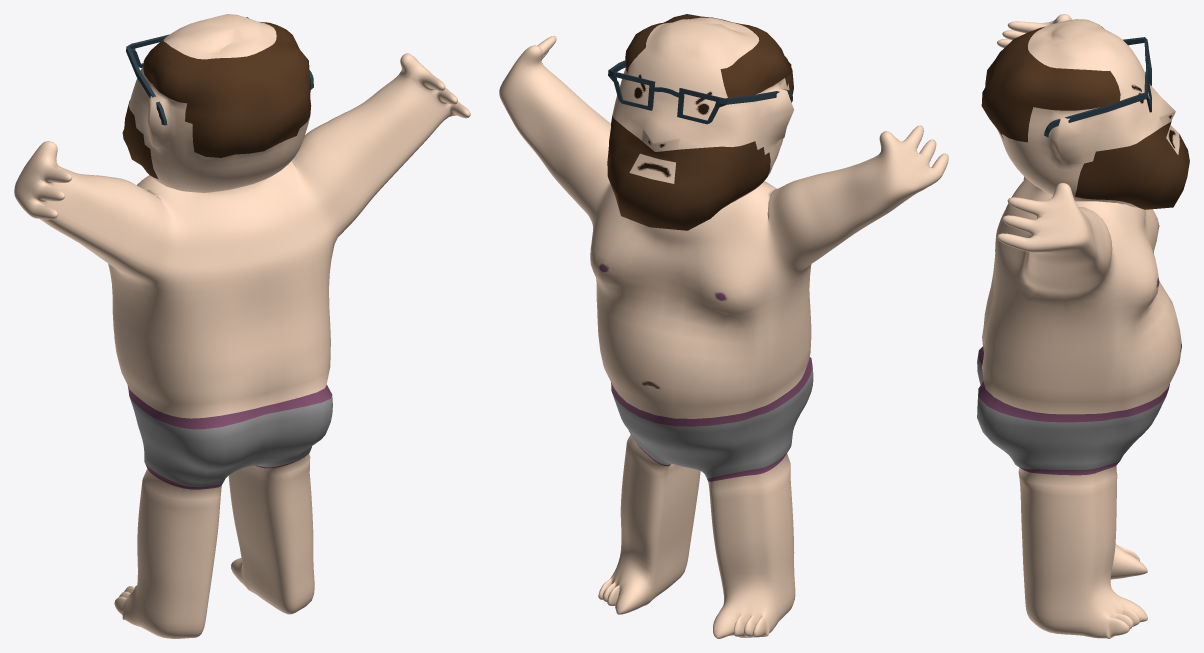
Rendered from ramoncharacter.glb.
The picture shows the model from 3 angles, left to right: view 1: azimuth 30°, elevation 25°; view 2: azimuth 150°, elevation 25°; view 3: azimuth 270°, elevation 25°; orthographic projection. The views are drawn at different scales.
Visible parts, largest first — view 1: ramon, Cube.002; view 2: ramon, Cube.002; view 3: ramon, Cube.002.
Part boxes in pixels (x1,y1,x2,y2): ramon: (14, 14, 470, 638); Cube.002: (126, 17, 313, 125); ramon: (499, 14, 948, 638); Cube.002: (608, 60, 792, 124); ramon: (977, 14, 1189, 638); Cube.002: (1044, 37, 1151, 137).
Size of the model in its own units: 3.43 by 4.46 by 1.51.
6 materials, 1 textured.
